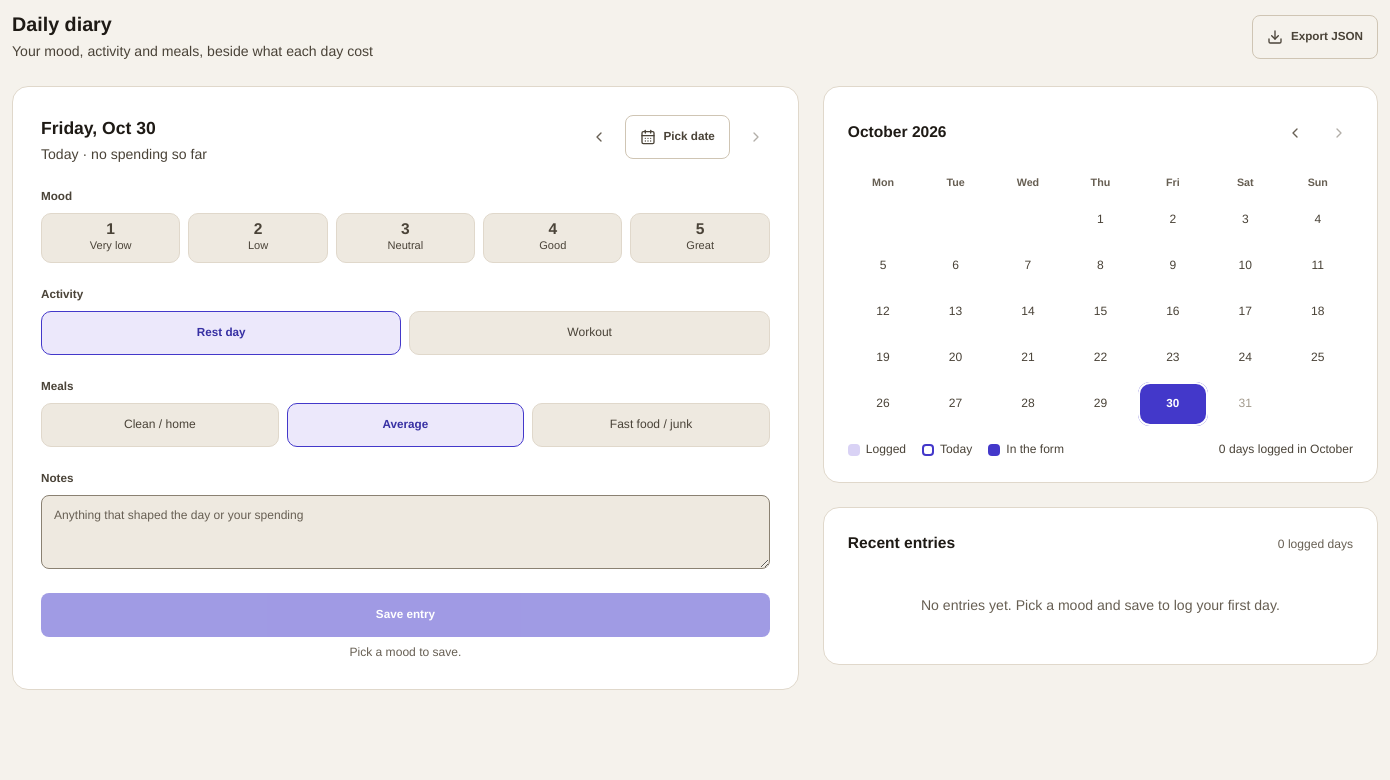
Test case: the entry form › saves the entry and says so
This screenshot has width=1390, height=780.
Click the button with id "diary-mood-btn-4" at [553, 238], box [483,213,622,263]
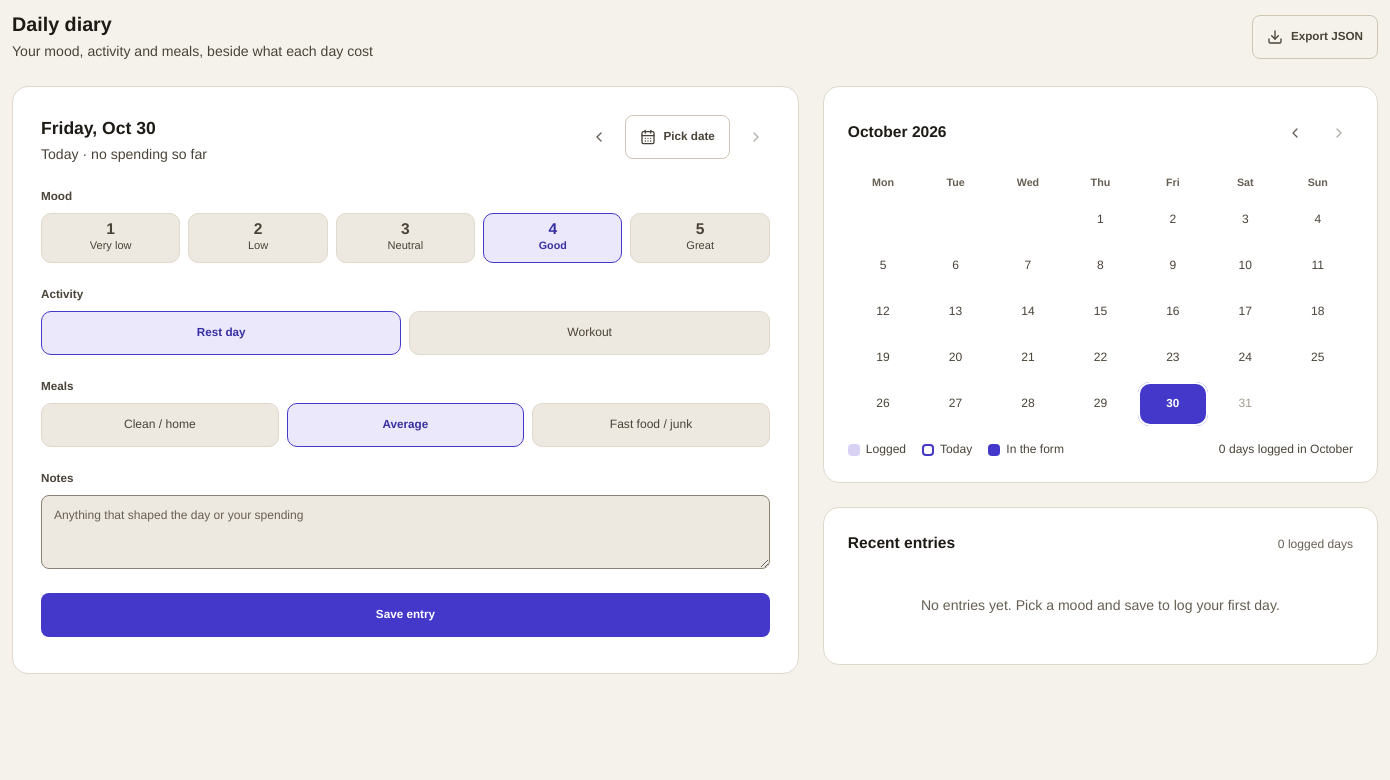
Type "Quiet day" into the text box with id "diary-notes-textarea" at [405, 532], box [41,495,770,569]
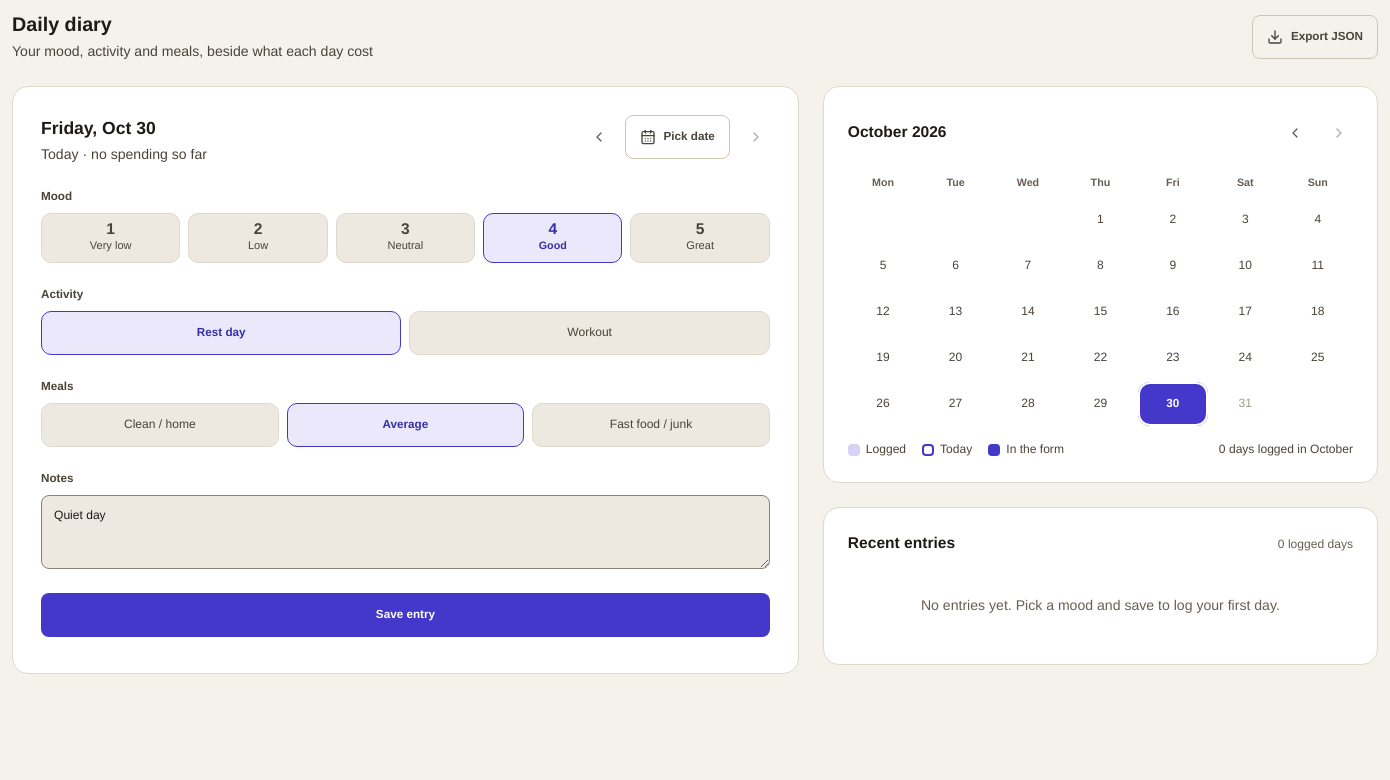
Click the button with id "diary-save-entry-btn" at [405, 615], box [41,593,770,637]
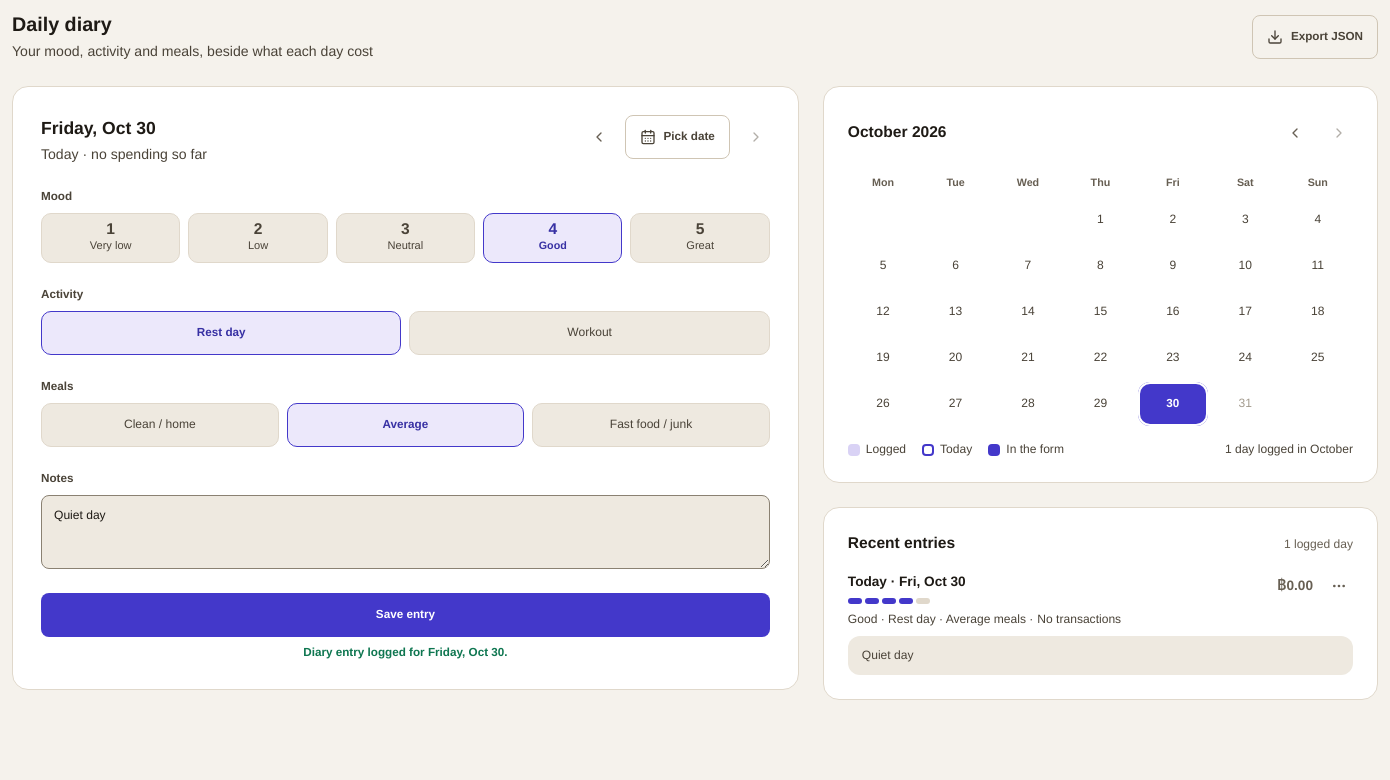
Result: the message with id "diary-save-status" shows "Diary entry logged for" at [303,643,508,662]
Result: the text with test id "diary-entry-notes" reads "Quiet day" at [862,646,913,664]
